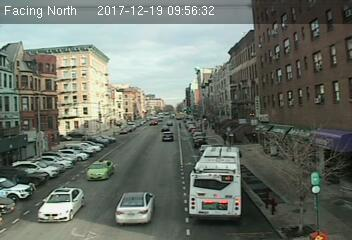bus: (188, 145, 244, 220)
car: (38, 187, 82, 223), (115, 190, 155, 222), (86, 159, 113, 181), (161, 131, 173, 142)
